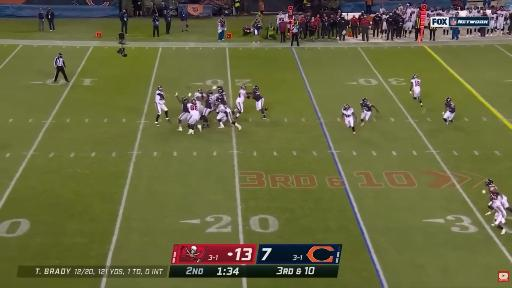Helmet: (489, 194, 498, 201), (486, 179, 493, 186), (343, 104, 350, 110), (219, 88, 225, 94), (446, 97, 451, 103), (207, 90, 212, 95), (182, 97, 187, 102), (254, 86, 259, 91), (412, 75, 418, 79), (158, 86, 162, 91), (198, 89, 203, 93), (362, 98, 367, 102), (241, 85, 245, 89), (192, 99, 196, 103)
Jersey: (187, 103, 199, 116), (488, 185, 499, 197), (155, 90, 164, 104), (216, 93, 226, 105), (217, 104, 230, 113), (237, 89, 246, 102), (205, 95, 213, 109), (497, 11, 507, 22), (277, 15, 287, 26), (343, 108, 353, 118), (411, 79, 420, 90), (361, 102, 371, 111), (194, 92, 202, 103), (253, 92, 262, 101), (182, 102, 189, 113), (448, 103, 455, 113)
Player: (486, 179, 511, 211), (486, 195, 506, 234), (216, 101, 241, 129), (247, 86, 267, 119), (155, 86, 169, 126), (360, 98, 378, 125), (201, 90, 214, 127), (176, 94, 189, 130), (342, 105, 356, 134), (410, 75, 422, 106), (235, 85, 246, 118), (443, 97, 455, 125), (198, 125, 201, 131)
